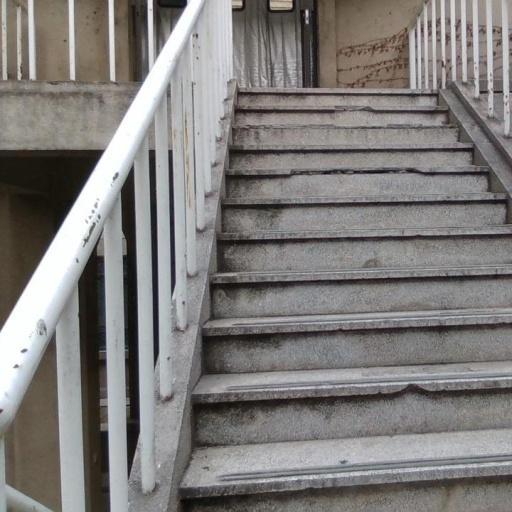stairs: (181, 90, 511, 511)
